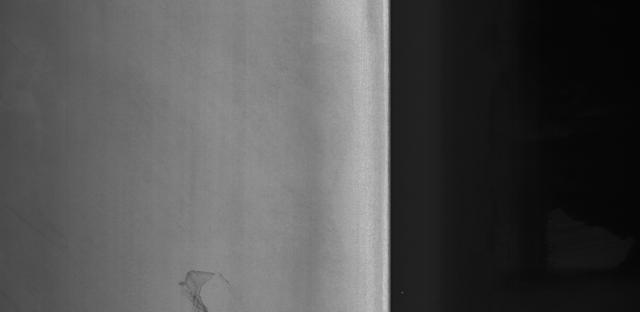water_spot: (164, 265, 244, 312)
